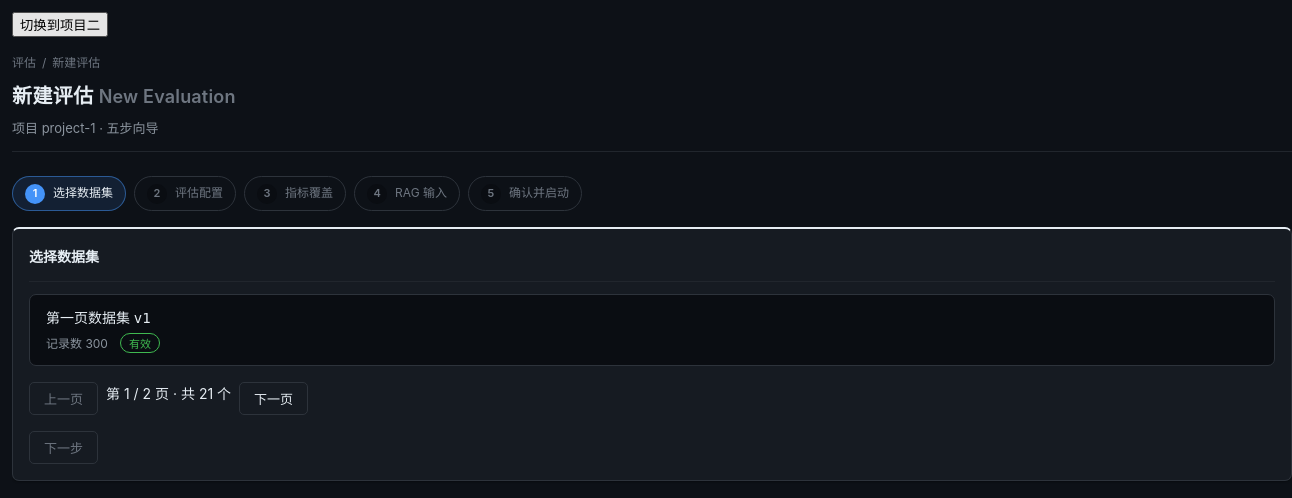
Test case: 评估创建入口 › 超过 20 个数据集时可以翻页选择，而不是截断候选项
Check: the text "第一页数据集" is shown, box [46,309,130,326]
Click the button "下一页" at (274, 398), box [239,382,308,415]
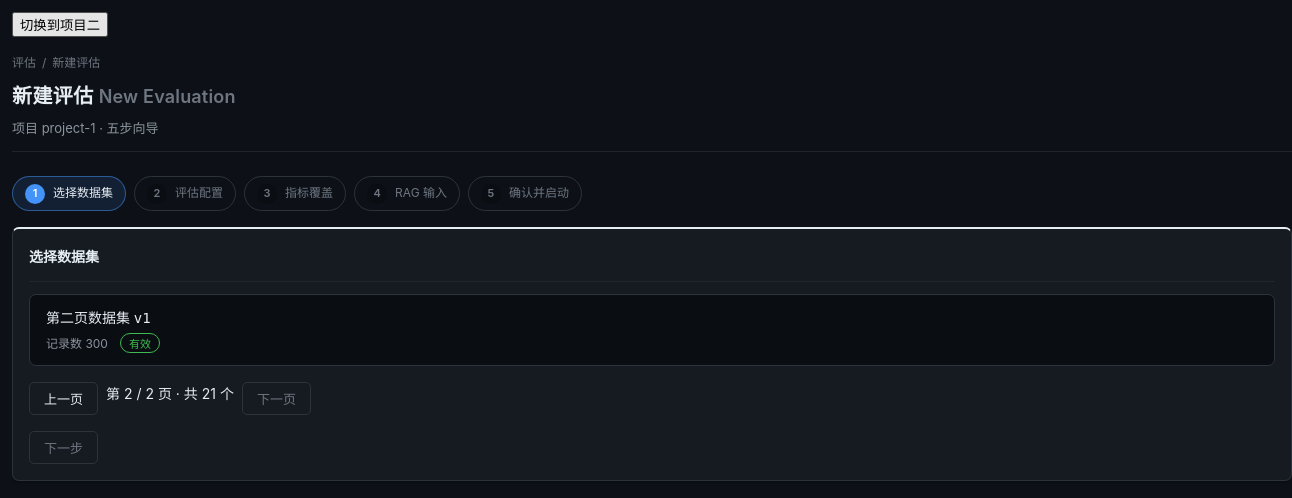
Check: the text "第二页数据集" is shown, box [46,309,130,326]
Check: the text "第 2 / 2 页 · 共 21 个" is shown, box [106,385,234,402]
Click the button with test id "select-dataset" at (88, 317), box [29,294,1275,366]
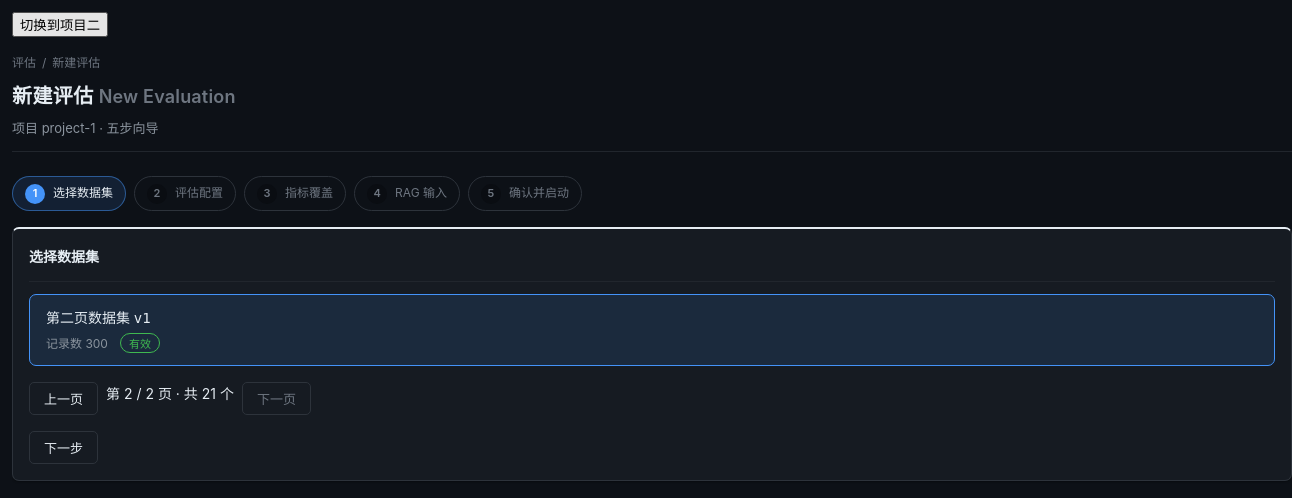
Check: the button "下一步" is enabled, box [29,431,98,464]
